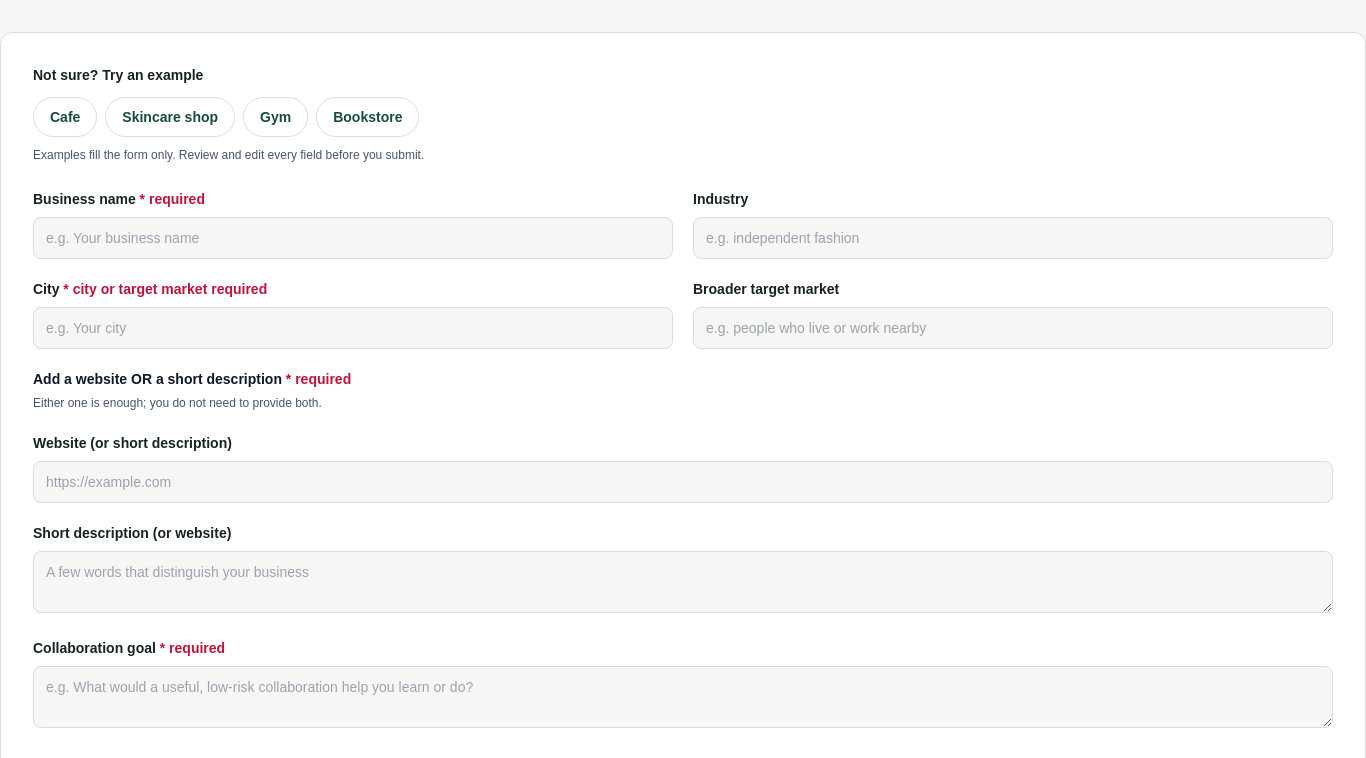
business brief form › explains missing website or description beside the fields and focuses the first one
The width and height of the screenshot is (1366, 758).
Click the button "Cafe": {"x": 65, "y": 117} [33,97,97,137]
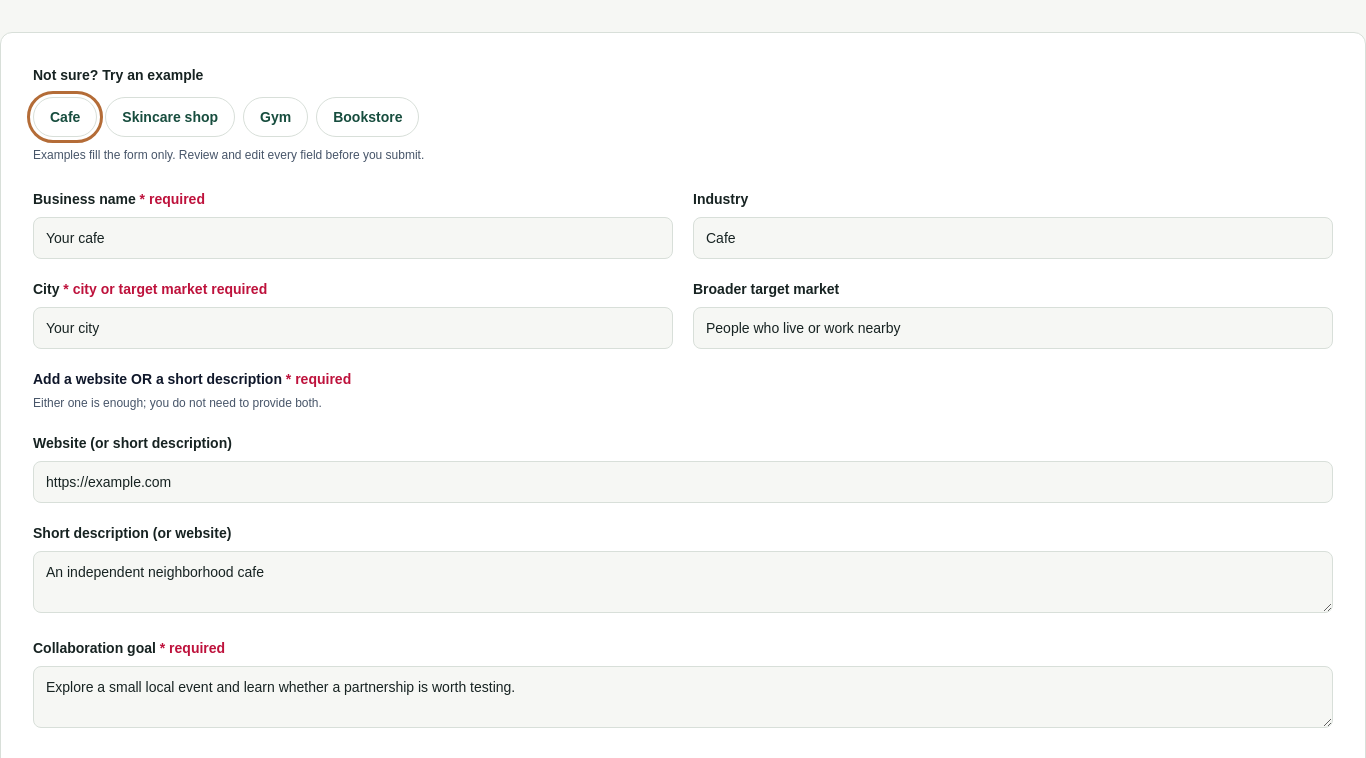
Clear the field labelled "Website (or short description)": {"x": 683, "y": 482} [33,461,1333,503]
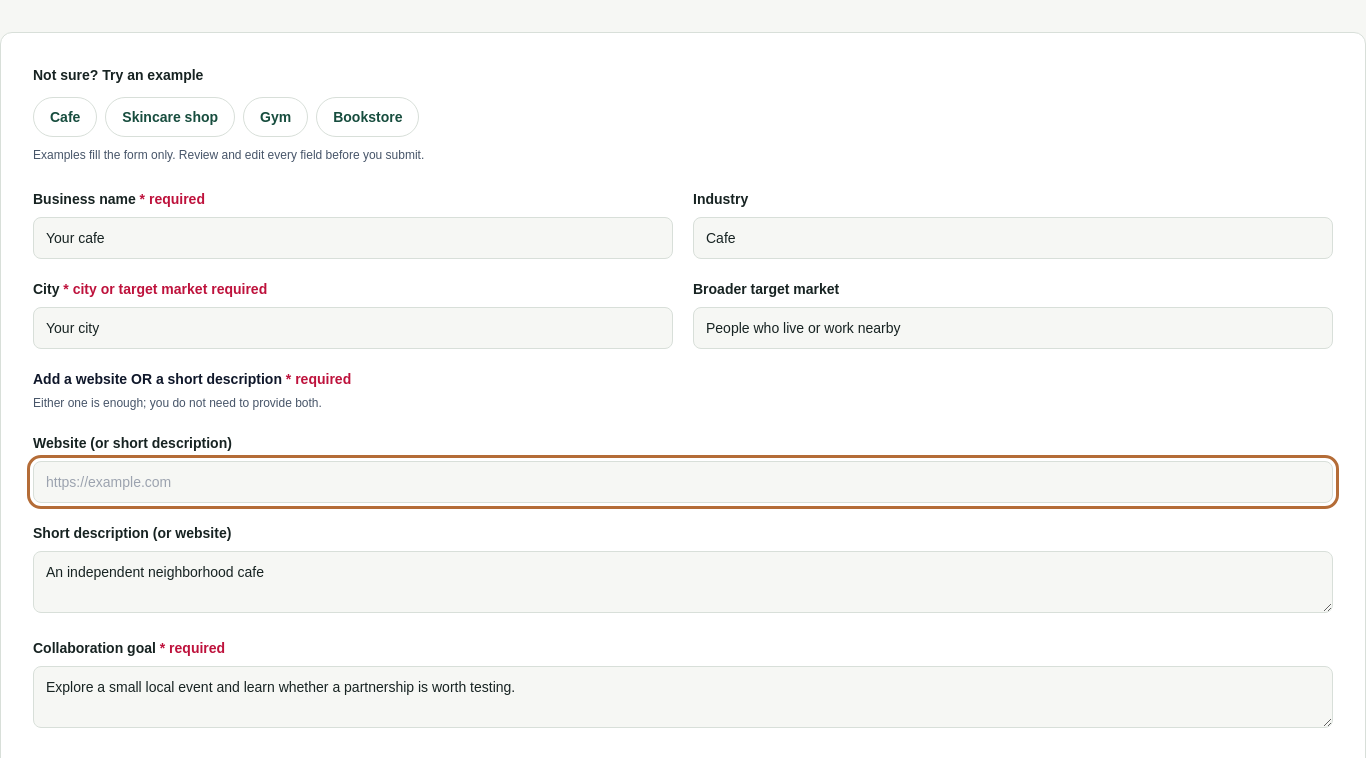
Clear the text box labelled "Short description (or website)": {"x": 683, "y": 582} [33,551,1333,613]
(page scrolled)
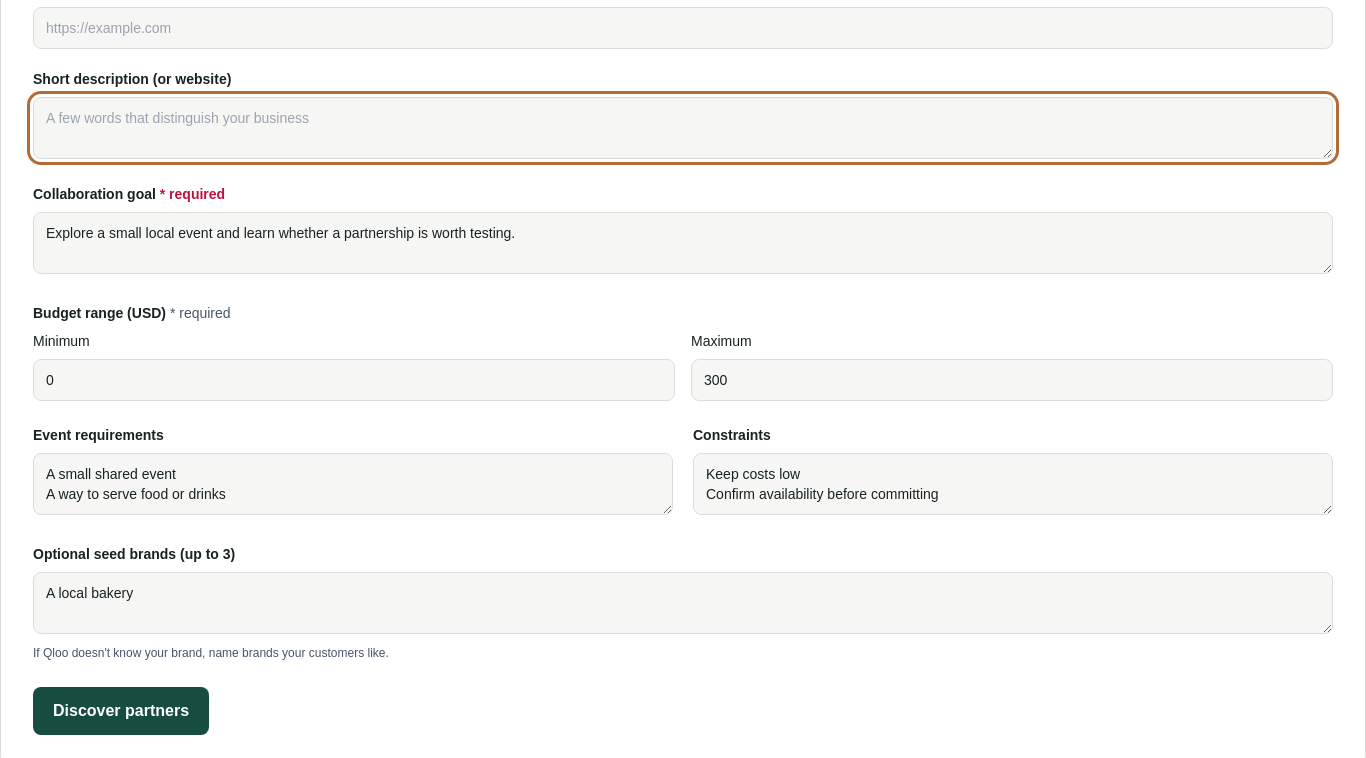
Click the button "Discover partners": {"x": 121, "y": 711} [33,687,209,735]
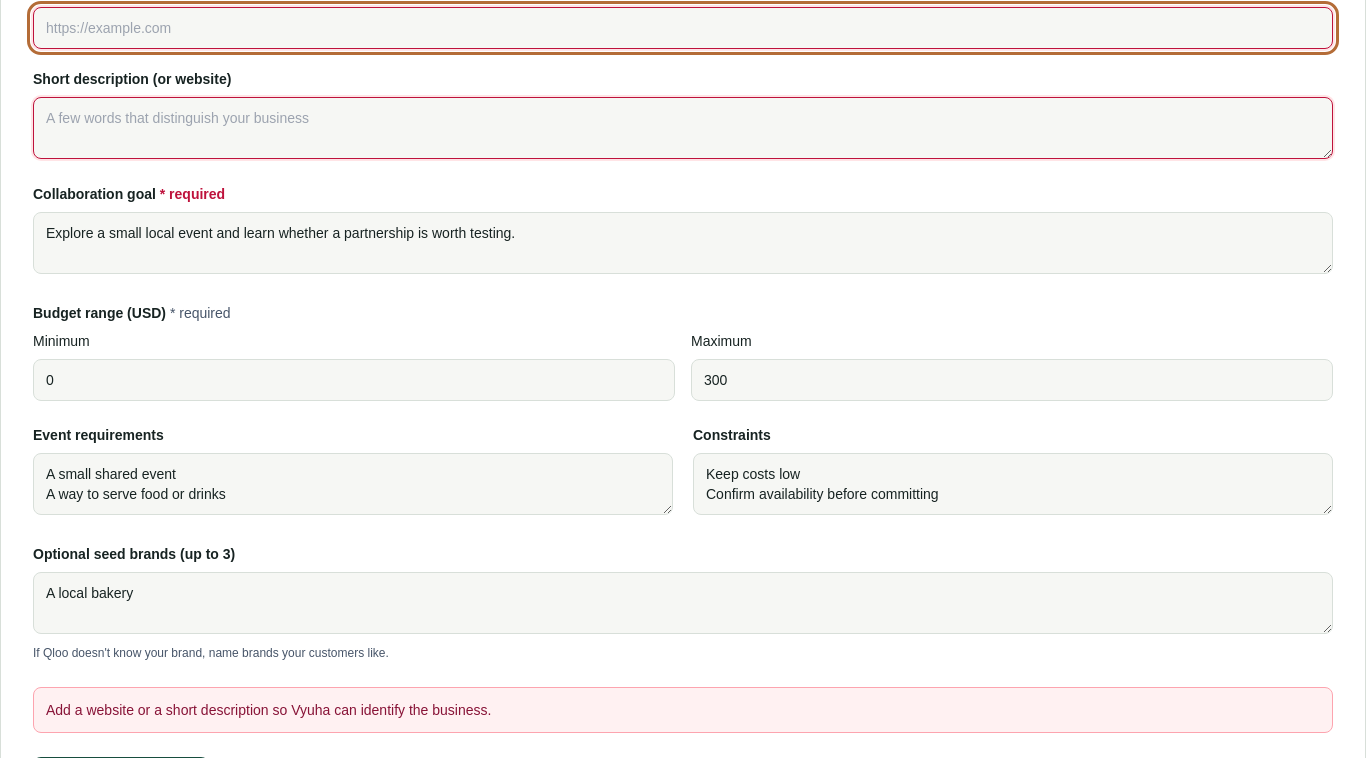
expect the message shows "Add a website or a short description": met, box [46,702,491,718]
